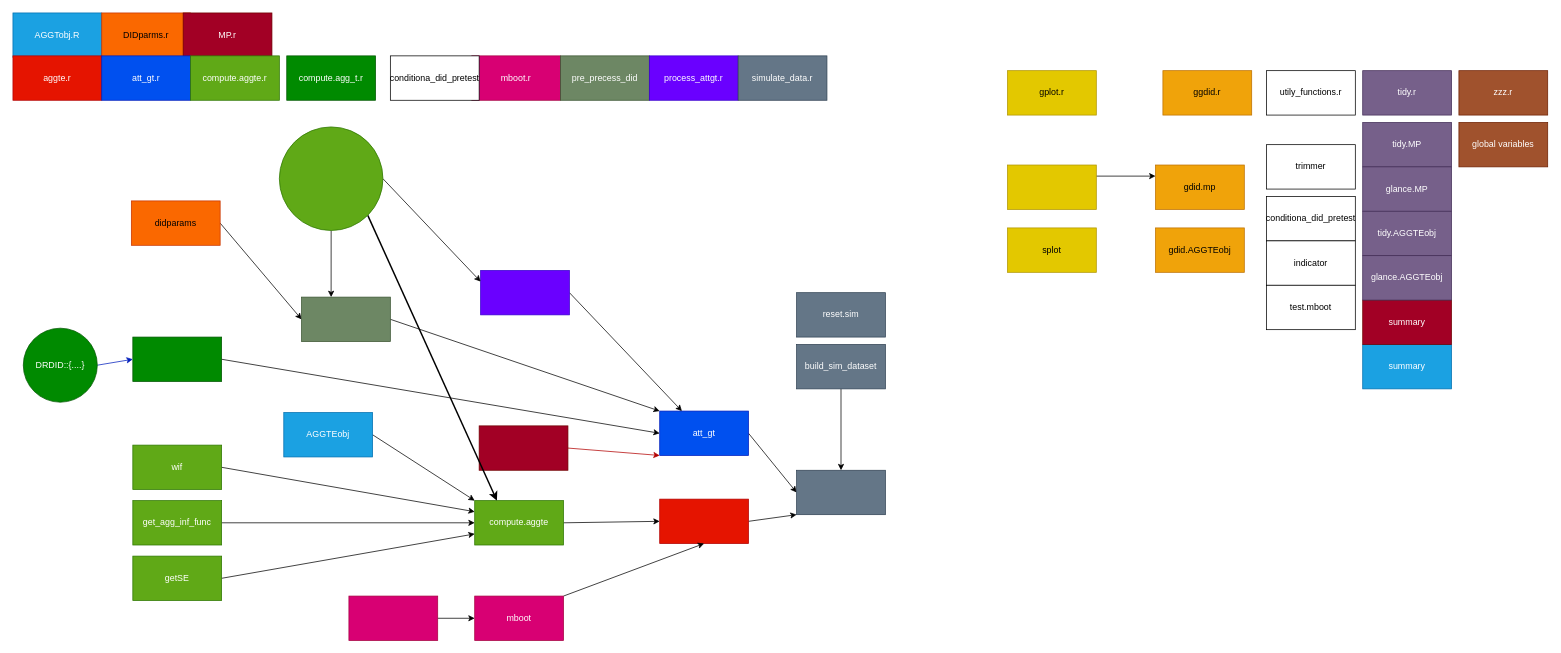
Image size: 1561x653. Some labels were removed from this diagram. Here are the shapes that lost their labels. From the top down, the centre of each, then its label:
At [331,178]: "BMisc::{..}".
At [1051,186]: "gplot".
At [524,292]: "process_attgt".
At [345,319]: "pre_process_did".
At [177,358]: "compute.att_gt".
At [523,447]: "MP".
At [840,492]: "sim".
At [704,521]: "aggte".
At [393,617]: "run_multiplier_bottstrap".
